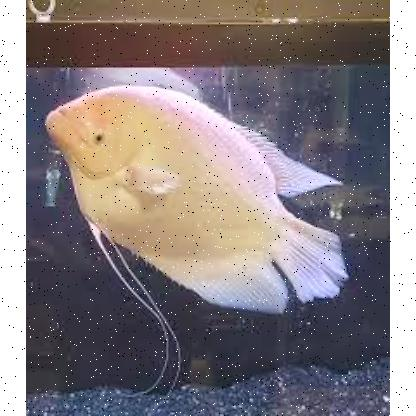gurame: (44, 84, 350, 314)
